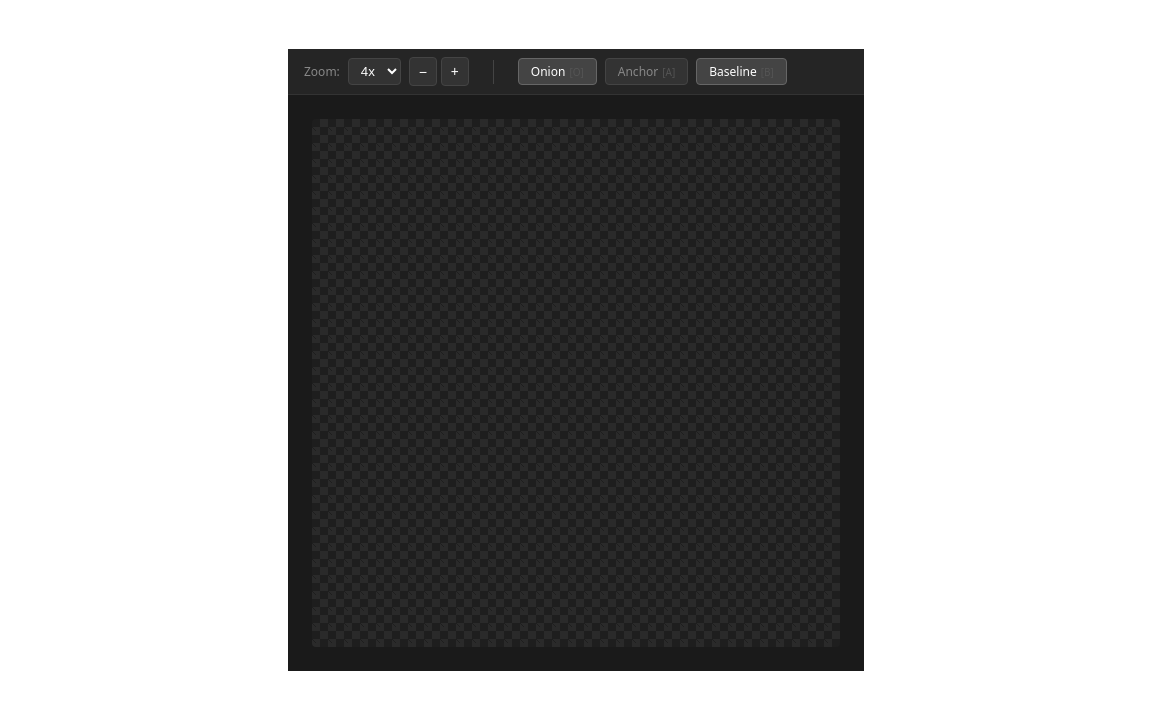
Test case: Stage Component (Story 7.3) › Zoom Controls (AC #6) › should disable zoom in at max (8x)
Select "8x" in the dropdown named "zoom level" at (374, 72), box [348, 58, 401, 85]
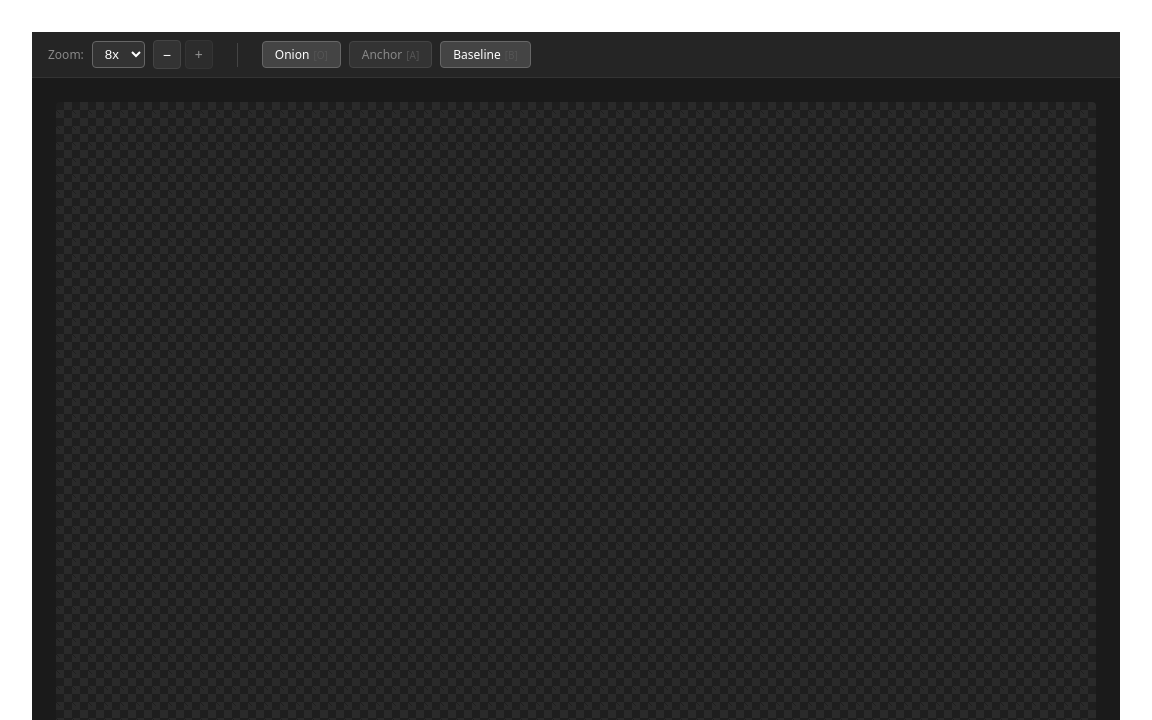
Now the button named "zoom in" is disabled, box [185, 40, 213, 69]
